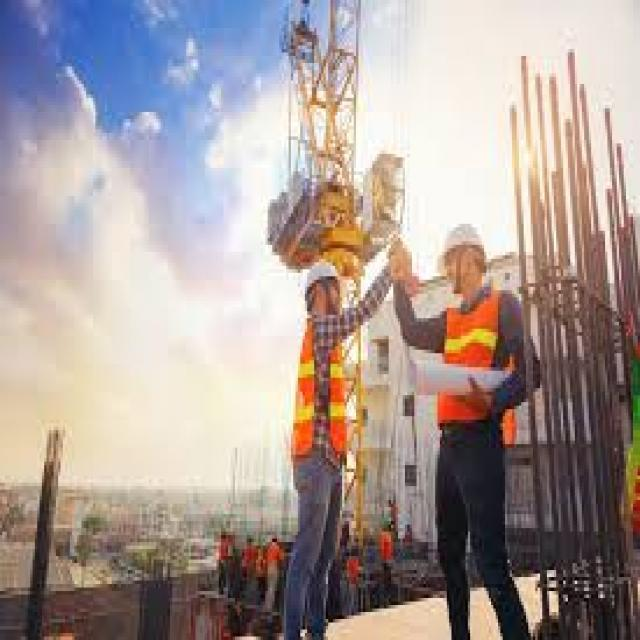reflective_jacket: (421, 283, 525, 447), (281, 300, 374, 472)
safety_helmet: (430, 206, 495, 272), (291, 251, 346, 304)
